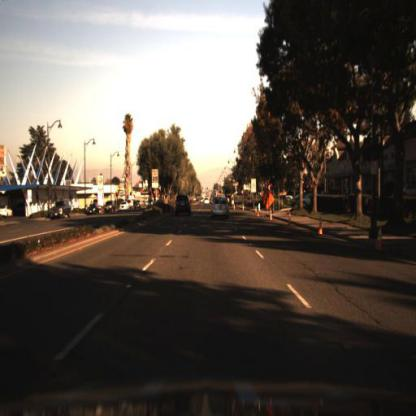car: (173, 193, 196, 220), (211, 195, 230, 220), (52, 198, 73, 219), (298, 192, 316, 210), (103, 195, 117, 216), (118, 196, 130, 216), (104, 200, 117, 213), (88, 204, 100, 216)
